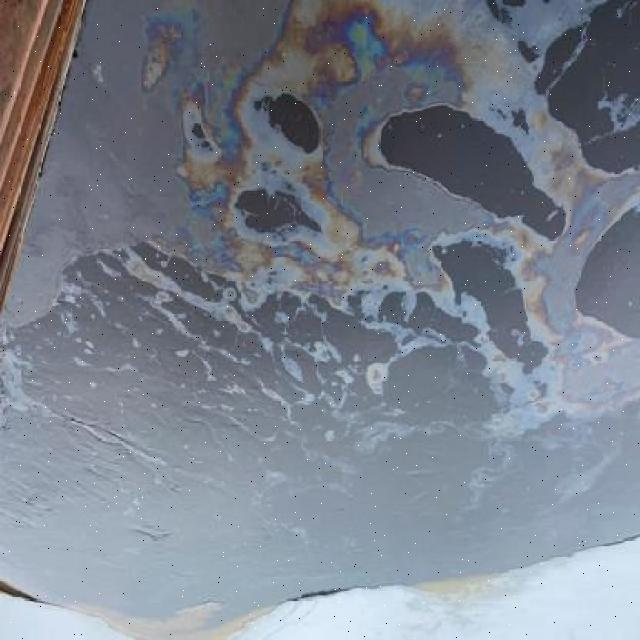oil: (4, 0, 640, 483)
